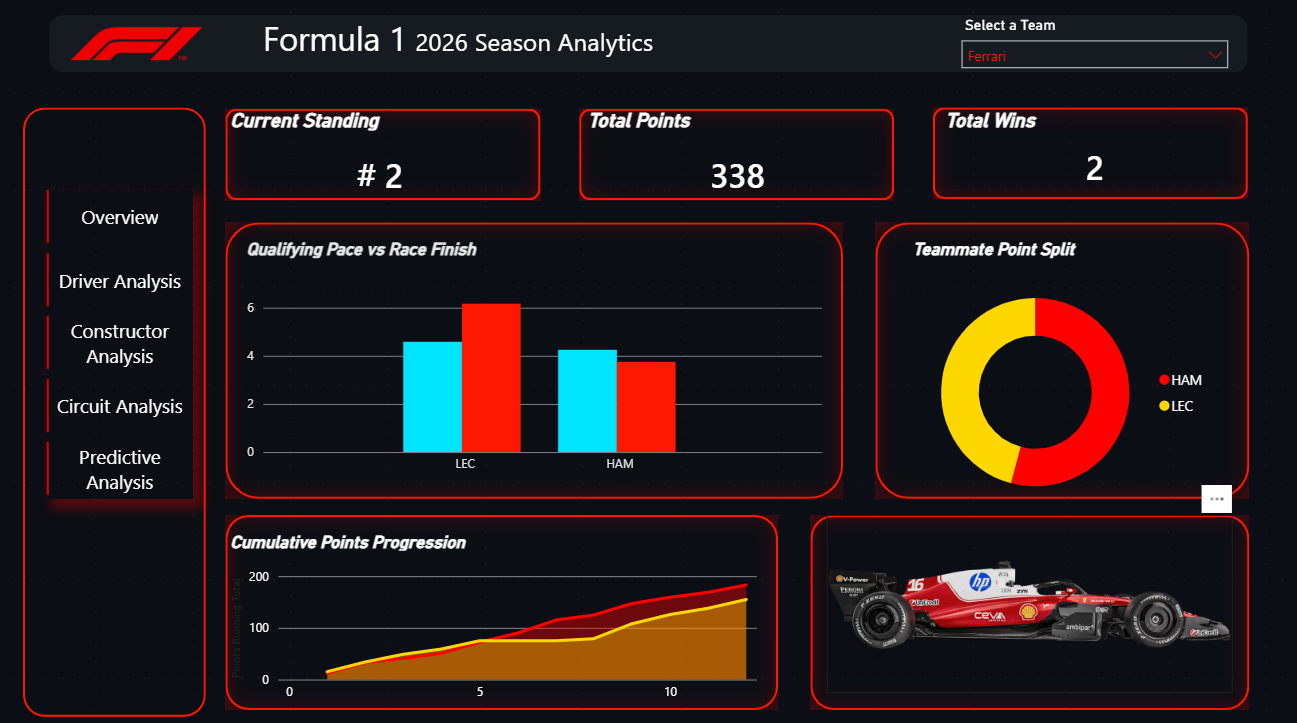

The page's visual inventory and layout, read from the dashboard file:
{"tool":"powerbi","page":{"name":"Constructor Analysis","canvas":[1280,720],"ordinal":2},"visuals":[{"type":"shape","box":[50.3,19.6,1180,56.4],"z":0},{"type":"image","box":[34.4,9.8,203.7,76.1],"z":1000},{"type":"shape","box":[24.5,110.4,180,600],"z":2000},{"type":"shape","box":[224,112,310,90],"z":3000},{"type":"shape","box":[920.3,110.4,310,90],"z":4000},{"type":"shape","box":[572.1,112,310,90],"z":5000},{"type":"shape","box":[800,512,432,192],"z":6000},{"type":"cardVisual","title":"Current Standing","fields":{"Data":["Sum(constructor_standings_current.position)"]},"box":[224,112,304,96],"z":7000},{"type":"cardVisual","title":"Total Points","fields":{"Data":["Sum(constructor_standings_current.points)"]},"box":[576,112,304,96],"z":8000},{"type":"cardVisual","title":"Total Wins","fields":{"Data":["Sum(constructor_standings_current.wins)"]},"box":[928,112,304,80],"z":9000},{"type":"pageNavigator","box":[48,192,144,304],"z":10000},{"type":"textbox","box":[256,16,432,64],"z":11000},{"type":"slicer","title":"Select a Driver","fields":{"Values":["constructor_standings_current.constructorName"]},"box":[944,16,272,64],"z":12000},{"type":"shape","box":[224,512,544,192],"z":13000},{"type":"areaChart","title":"Cumulative Points Progression","fields":{"Series":["driver_points_per_round.Abbreviation"],"Category":["driver_points_per_round.Round"],"Y":["driver_points_per_round.Sum of Points running total in Round"]},"box":[224,528,528,176],"z":14000},{"type":"shape","box":[864,224,368,272],"z":15000},{"type":"image","box":[816,512,400,176],"z":16000},{"type":"donutChart","title":"Teammate Point Split","fields":{"Y":["Sum(driver_standings_current.points)"],"Category":["driver_standings_current.driverCode"]},"box":[896,240,304,272],"z":17000},{"type":"shape","box":[224,224,608,272],"z":18000},{"type":"clusteredColumnChart","title":"Qualifying Pace vs Race Finish","fields":{"Y":["Avg(qualifying_results.Position)","Avg(driver_points_per_round.Position)"],"Category":["driver_standings_current.driverCode"]},"box":[240,240,576,240],"z":19000}]}

Visuals, with their boxes in screenshot pixels (x1, y1, x2, y2), scaled from the page's 1280x720 canvas onto the 1297x723 screenshot:
shape: (51, 20, 1247, 76)
image: (35, 10, 241, 86)
shape: (25, 111, 207, 713)
shape: (227, 112, 541, 203)
shape: (933, 111, 1247, 201)
shape: (580, 112, 894, 203)
shape: (811, 514, 1248, 707)
"Current Standing" cardVisual: (227, 112, 535, 209)
"Total Points" cardVisual: (584, 112, 892, 209)
"Total Wins" cardVisual: (940, 112, 1248, 193)
pageNavigator: (49, 193, 195, 498)
textbox: (259, 16, 697, 80)
"Select a Driver" slicer: (957, 16, 1232, 80)
shape: (227, 514, 778, 707)
"Cumulative Points Progression" areaChart: (227, 530, 762, 707)
shape: (875, 225, 1248, 498)
image: (827, 514, 1232, 691)
"Teammate Point Split" donutChart: (908, 241, 1216, 514)
shape: (227, 225, 843, 498)
"Qualifying Pace vs Race Finish" clusteredColumnChart: (243, 241, 827, 482)
